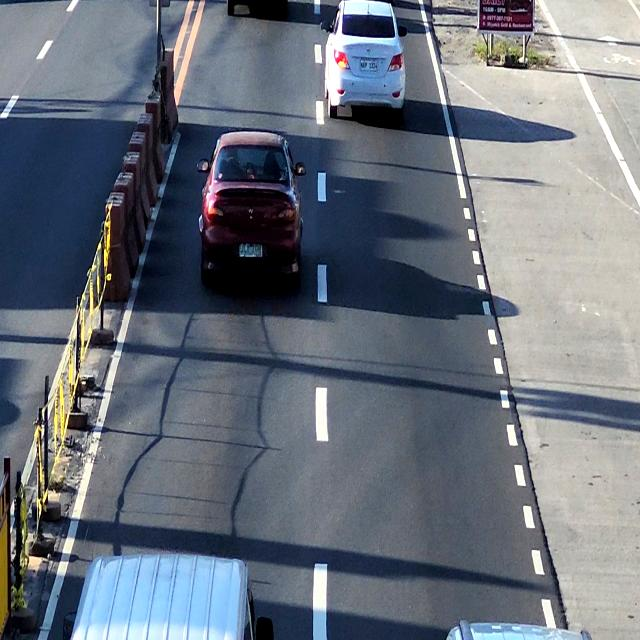Car: (198, 127, 302, 287), (321, 0, 409, 121)
Jeep: (69, 556, 272, 640)
License-Plate: (238, 242, 263, 264), (362, 61, 381, 78)
